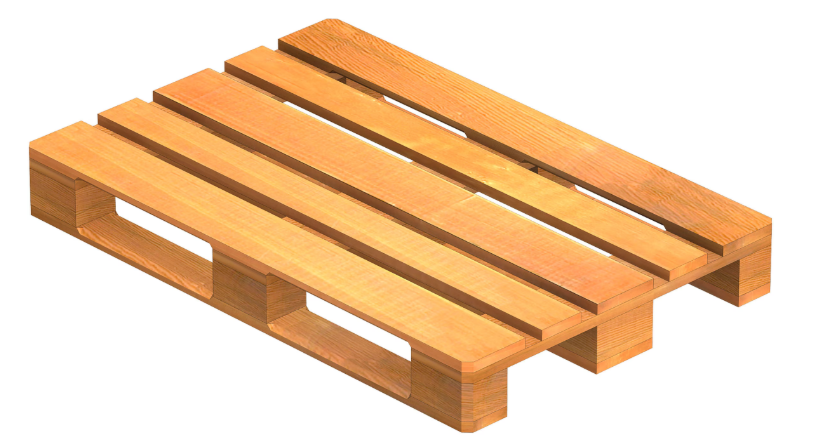hole pallet: (548, 239, 770, 373)
